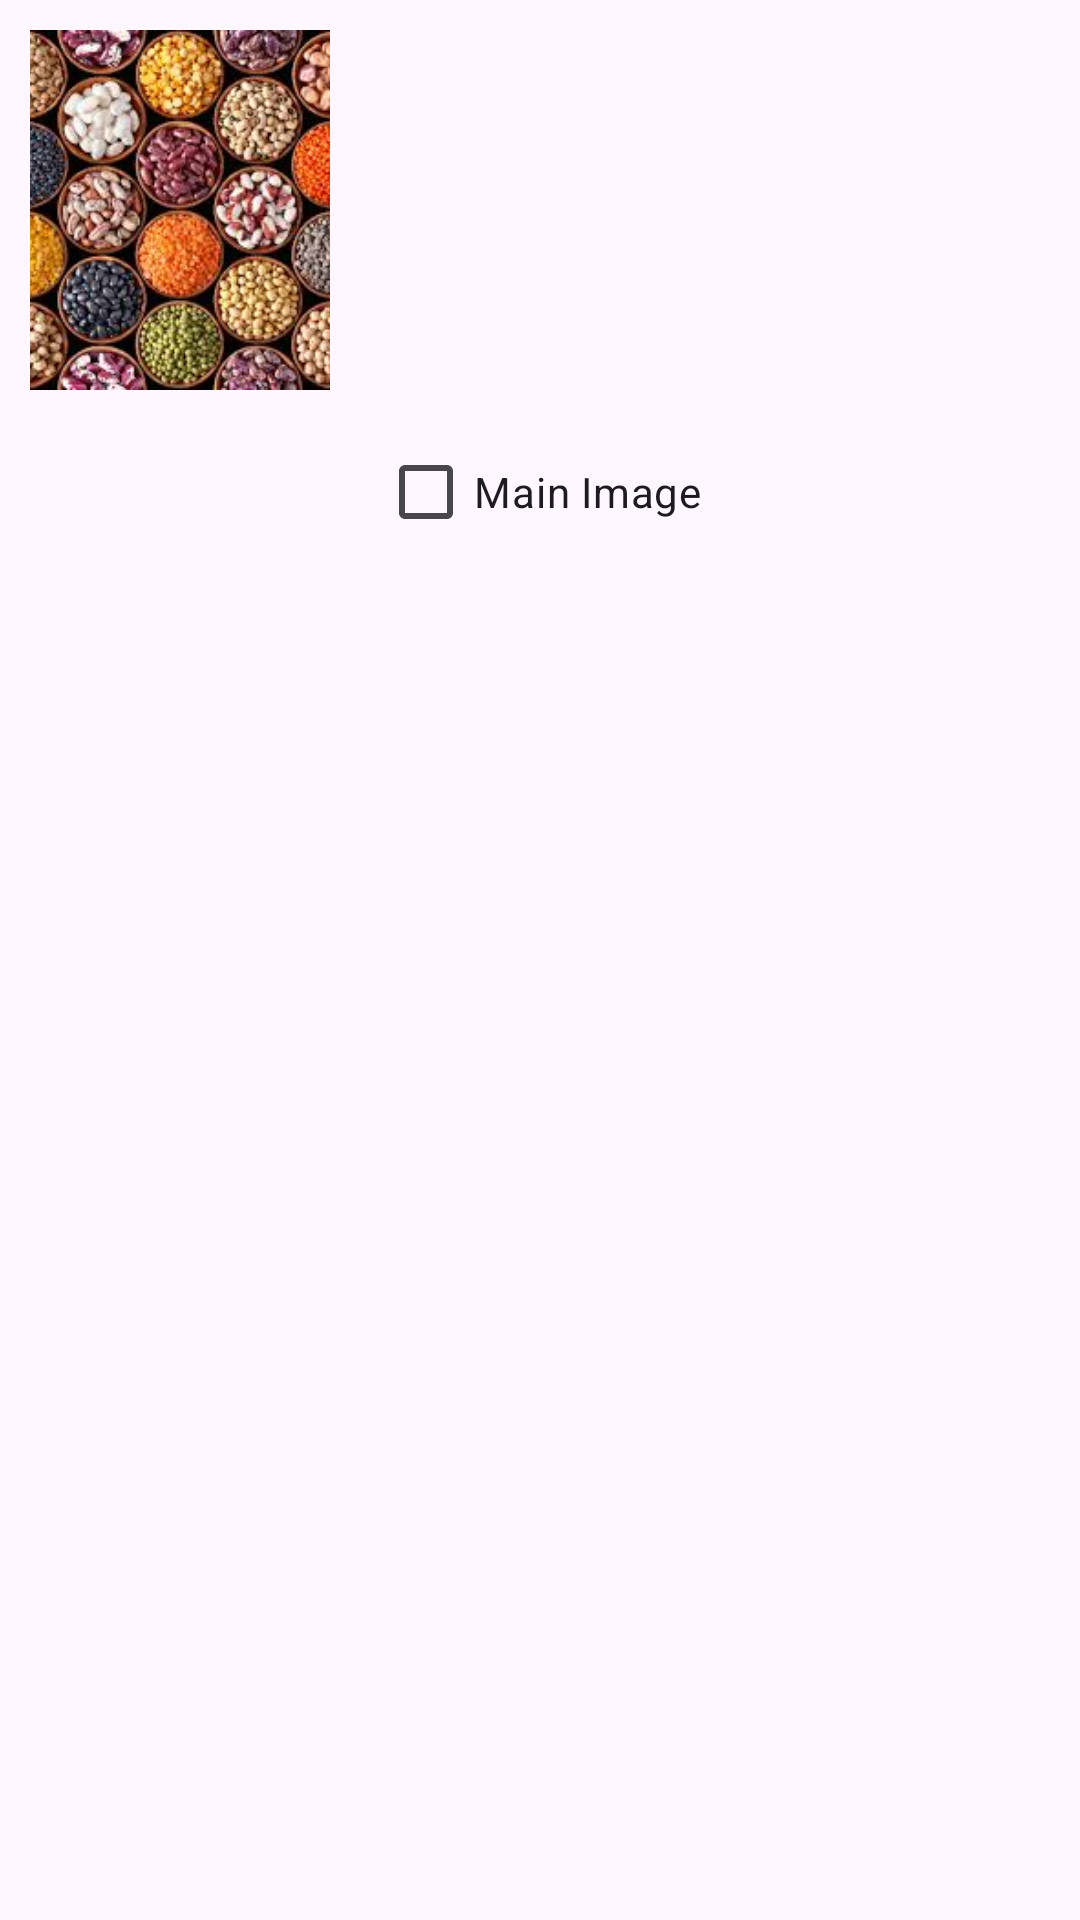

Icon click points for this 1080 x 1920 phone screenshot, format (x,y):
grains and pulses: (180,210)
